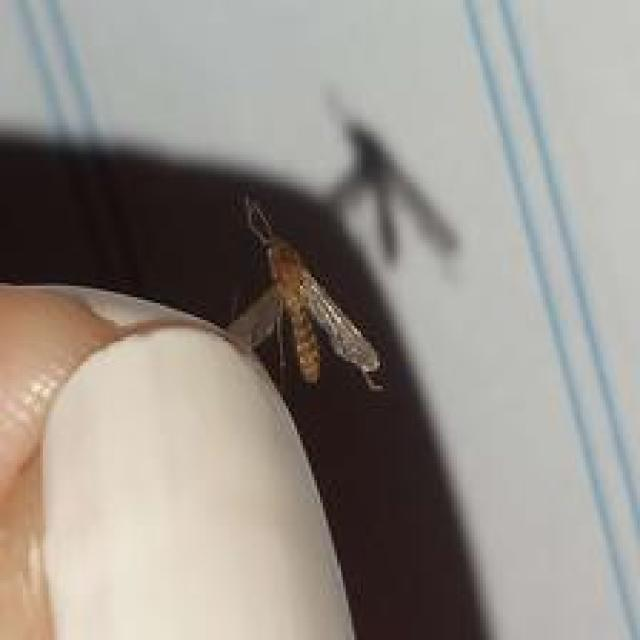Culex: (224, 192, 387, 394)
